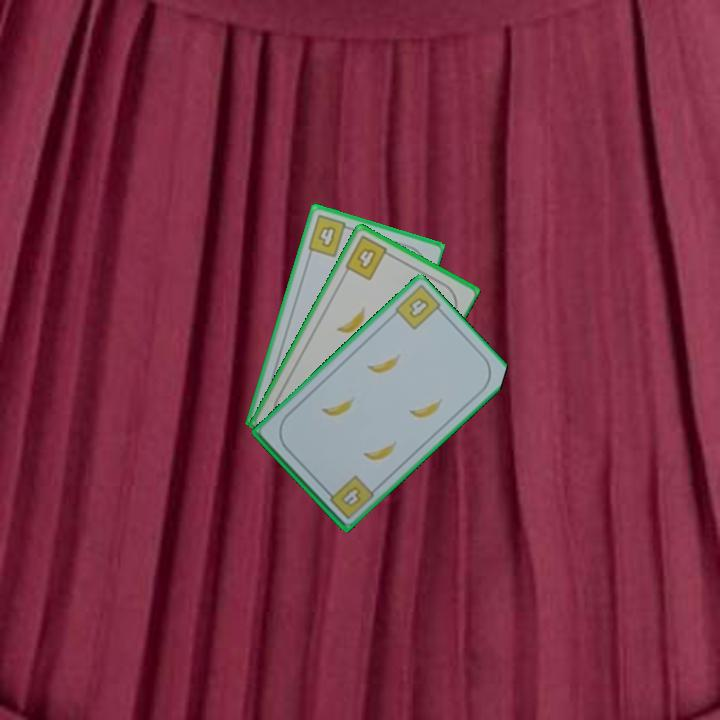4b: (341, 232, 396, 283), (321, 472, 377, 522), (304, 211, 355, 260), (405, 293, 432, 321)
